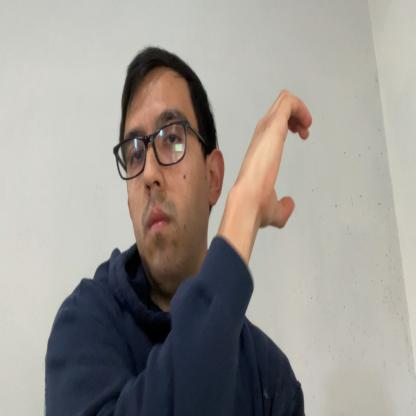C: (242, 87, 312, 229)
